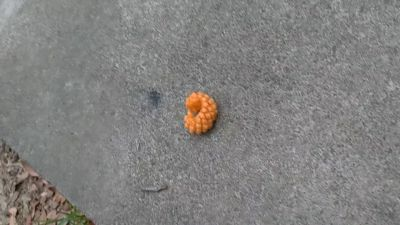eggs: (184, 91, 218, 135)
